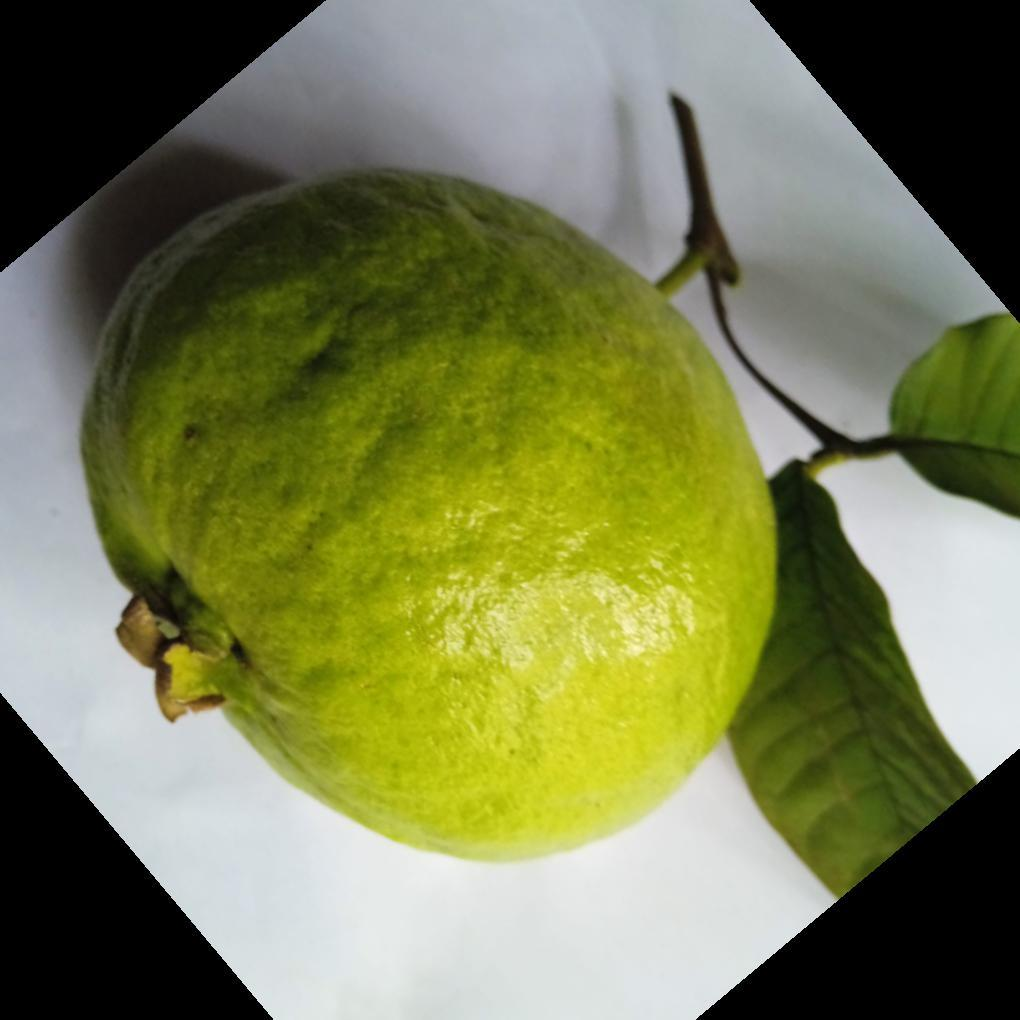FreshGuava: (77, 169, 780, 868)
